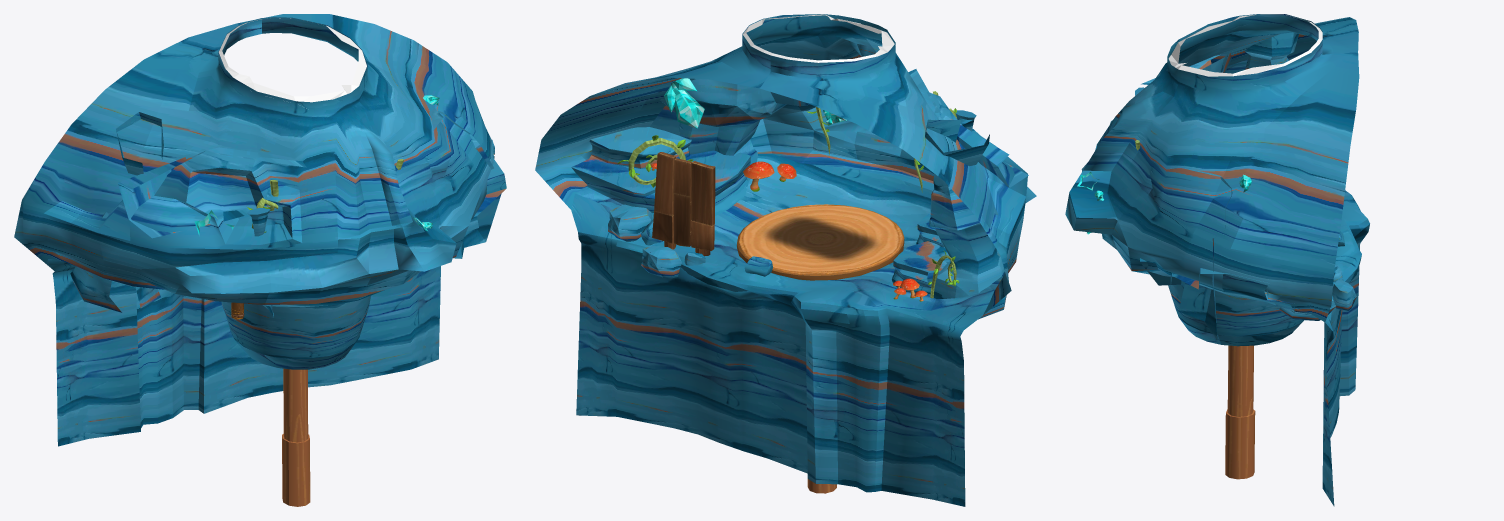
Rendered from mechanicpiggarage.fbx.
3 renders of one model, left to right at view 1: azimuth 30°, elevation 25°; view 2: azimuth 150°, elevation 25°; view 3: azimuth 270°, elevation 25°, orthographic. The views are drawn at different scales.
Visible parts, largest first — view 1: mesh_3_63.nr.001, mesh_3_63.nr, mesh_3_63.nr.004; view 2: mesh_3_63.nr.001, mesh_3_63.nr, mesh_3_63.nr.007, mesh_3_63.nr.010, mesh_3_63.nr.006, mesh_3_63.nr.003, mesh_3_63.nr.004; view 3: mesh_3_63.nr.001, mesh_3_63.nr, mesh_3_63.nr.004.
Boxes of the visible parts, box(x1,y1,x2,y2) form: mesh_3_63.nr.001: box(14, 14, 506, 446); mesh_3_63.nr: box(282, 368, 310, 506); mesh_3_63.nr.004: box(218, 18, 366, 108); mesh_3_63.nr.001: box(535, 14, 1036, 506); mesh_3_63.nr: box(737, 204, 904, 493); mesh_3_63.nr.007: box(652, 152, 715, 256); mesh_3_63.nr.010: box(664, 78, 846, 128); mesh_3_63.nr.006: box(628, 91, 957, 298); mesh_3_63.nr.003: box(651, 161, 927, 301); mesh_3_63.nr.004: box(742, 14, 894, 62); mesh_3_63.nr.001: box(1065, 14, 1369, 506); mesh_3_63.nr: box(1225, 345, 1255, 479); mesh_3_63.nr.004: box(1168, 14, 1322, 76).
Bounding box in the file's own units: 1184 × 1095 × 959.
Materials: 11 (11 with a texture image).
